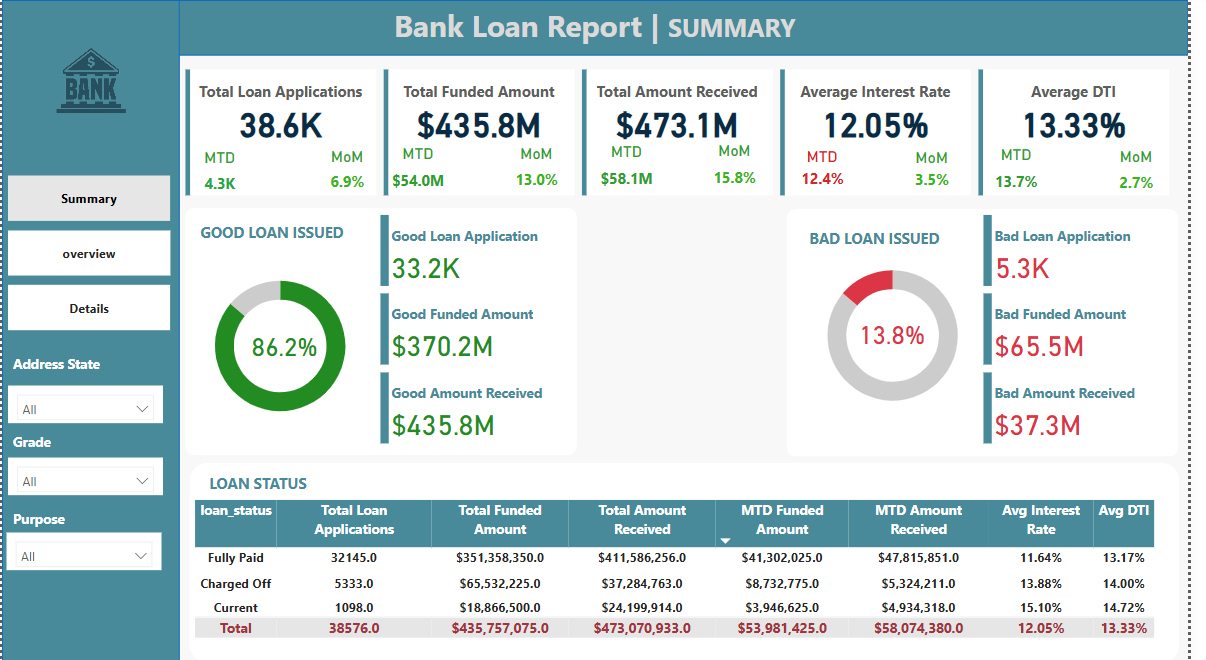

The dashboard page shown, as its layout file describes it:
{"tool":"powerbi","page":{"name":"Summary","canvas":[1280,720],"ordinal":0},"visuals":[{"type":"shape","box":[0,0,1280.8,59.9],"z":0},{"type":"card","title":"MoM","fields":{"Values":["MoM Measure.MoM Amount Received"]},"box":[750.4,153,81.7,62.9],"z":0,"group":"g3"},{"type":"card","title":"MoM","fields":{"Values":["MoM Measure.MoM Funded Amount"]},"box":[536.6,155.1,81.7,60.8],"z":0,"group":"g2"},{"type":"card","title":"MTD","fields":{"Values":["MTD Measure.MTD Average DTI"]},"box":[1054.3,157.2,81,61.5],"z":0,"group":"g5"},{"type":"card","title":"MTD","fields":{"Values":["MTD Measure.MTD Average Interest Rate"]},"box":[846.8,159.5,77.1,52.1],"z":0,"group":"g4"},{"type":"card","title":"MTD","fields":{"Values":["MTD Measure.MTD Loan Applications"]},"box":[194.9,160.8,81.1,60.1],"z":0,"group":"g1"},{"type":"shape","box":[0,0,191.9,720.9],"z":1000},{"type":"card","title":"MTD","fields":{"Values":["MTD Measure.MTD Funded Amount"]},"box":[408.7,155.1,81.7,62.9],"z":1000,"group":"g2"},{"type":"card","title":"MTD","fields":{"Values":["MTD Measure.MTD Amount Received"]},"box":[633,155.1,81.7,62.9],"z":1000,"group":"g3"},{"type":"card","title":"MoM","fields":{"Values":["MoM Measure.MoM Avg DTI"]},"box":[1183.8,158.8,81,61.5],"z":1000,"group":"g5"},{"type":"card","title":"MoM","fields":{"Values":["MoM Measure.MoM Loan Applications"]},"box":[332.3,159.3,81.2,59.5],"z":1000,"group":"g1"},{"type":"card","title":"MoM","fields":{"Values":["MoM Measure.MoM Avg Interest Rate"]},"box":[965.6,160.9,77.1,52.1],"z":1000,"group":"g4"},{"type":"textbox","box":[377.7,0,524.6,59.9],"z":1250},{"type":"cardVisual","fields":{"Data":["Measure.Total Loan Applications","Measure.Total Funded Amount","Measure.Total Amount Received","Measure.Average Interest Rate","Measure.Average DTI"]},"box":[192.8,69.2,1073.2,146.7],"z":1500},{"type":"group","id":"g1","title":"total apps G","box":[194.9,159.3,218,60.8],"z":1937},{"type":"group","id":"g2","title":"funded amount G","box":[408.7,155.1,209.6,62.9],"z":1968},{"type":"group","id":"g3","title":"amount received G","box":[633,153,199.1,65],"z":1984},{"type":"group","id":"g4","title":"AVG interest rate G","box":[846.8,159.5,195.9,53.4],"z":2492},{"type":"group","id":"g5","title":"avg DTI G","box":[1054.3,157.2,209.6,62.9],"z":2746},{"type":"shape","box":[197,218,423.4,272.5],"z":3000},{"type":"donutChart","fields":{"Category":["bank_loan_data.Good Vs Bad Loans"],"Y":["Measure.Total Loan Applications"]},"box":[197,280.9,205.4,186.6],"z":4000},{"type":"card","title":"good loan % card","fields":{"Values":["Good vs Bad Measure.Good Loan %"]},"box":[259.9,335.4,88,75.5],"z":5000},{"type":"cardVisual","title":"good loan Card","fields":{"Data":["Good vs Bad Measure.Good Loan Application","Good vs Bad Measure.Good Funded Amount","Good vs Bad Measure.Good Amount Received"]},"box":[402.5,226.4,211.7,257.8],"z":6000},{"type":"shape","box":[846.8,220.1,423.4,272.5],"z":7000},{"type":"donutChart","fields":{"Category":["bank_loan_data.Good Vs Bad Loans"],"Y":["Measure.Total Loan Applications"]},"box":[857.3,268.3,209.6,186.6],"z":8000},{"type":"card","fields":{"Values":["Good vs Bad Measure.Bad Loan %"]},"box":[916,322.8,88,75.5],"z":9000},{"type":"cardVisual","fields":{"Data":["Good vs Bad Measure.Bad Loan Application","Good vs Bad Measure.Bad Funded Amount","Good vs Bad Measure.Bad Amount Received"]},"box":[1054.3,226.4,211.7,259.9],"z":10000},{"type":"shape","box":[202.4,493.9,1068.7,221.8],"z":11000},{"type":"tableEx","fields":{"Values":["bank_loan_data.loan_status","Measure.Total Loan Applications","Measure.Total Funded Amount","Measure.Total Amount Received","MTD Measure.MTD Funded Amount","MTD Measure.MTD Amount Received","Measure.Average Interest Rate","Measure.Average DTI"]},"box":[203,534.6,1064,167.5],"z":12000},{"type":"image","box":[15.9,31.9,159.4,108.7],"z":13000},{"type":"slicer","fields":{"Values":["bank_loan_data.address_state"]},"box":[7,416.3,167.4,40.7],"z":14000},{"type":"textbox","box":[7,376.7,127.9,39.5],"z":15000},{"type":"slicer","fields":{"Values":["bank_loan_data.grade"]},"box":[7,494.2,167.4,40.7],"z":16000},{"type":"textbox","box":[7,461.6,74.4,32.6],"z":17000},{"type":"slicer","fields":{"Values":["bank_loan_data.purpose"]},"box":[4.7,574.4,167.4,40.7],"z":18000},{"type":"textbox","box":[5.8,544.2,176.7,33.7],"z":19000},{"type":"textbox","box":[209.6,234.8,199.1,39.8],"z":20000},{"type":"textbox","box":[865.7,241.1,201.2,39.8],"z":21000},{"type":"textbox","box":[218.6,504.7,201.2,39.5],"z":22000},{"type":"pageNavigator","box":[7.2,189.9,175.4,169.6],"z":23000}]}

Visuals, with their boxes in screenshot pixels (x1, y1, x2, y2), scaled from the page's 1280x720 canvas onto the 1206x660 screenshot:
shape: {"left": 0, "top": 0, "right": 1205, "bottom": 55}
"MoM" card: {"left": 707, "top": 140, "right": 784, "bottom": 198}
"MoM" card: {"left": 506, "top": 142, "right": 583, "bottom": 198}
"MTD" card: {"left": 993, "top": 144, "right": 1070, "bottom": 200}
"MTD" card: {"left": 798, "top": 146, "right": 870, "bottom": 194}
"MTD" card: {"left": 184, "top": 147, "right": 260, "bottom": 202}
shape: {"left": 0, "top": 0, "right": 181, "bottom": 659}
"MTD" card: {"left": 385, "top": 142, "right": 462, "bottom": 200}
"MTD" card: {"left": 596, "top": 142, "right": 673, "bottom": 200}
"MoM" card: {"left": 1115, "top": 146, "right": 1192, "bottom": 202}
"MoM" card: {"left": 313, "top": 146, "right": 390, "bottom": 201}
"MoM" card: {"left": 910, "top": 147, "right": 982, "bottom": 195}
textbox: {"left": 356, "top": 0, "right": 850, "bottom": 55}
cardVisual - Measure.Total Loan Applications x Measure.Total Funded Amount: {"left": 182, "top": 63, "right": 1193, "bottom": 198}
"total apps G" group: {"left": 184, "top": 146, "right": 389, "bottom": 202}
"funded amount G" group: {"left": 385, "top": 142, "right": 583, "bottom": 200}
"amount received G" group: {"left": 596, "top": 140, "right": 784, "bottom": 200}
"AVG interest rate G" group: {"left": 798, "top": 146, "right": 982, "bottom": 195}
"avg DTI G" group: {"left": 993, "top": 144, "right": 1191, "bottom": 202}
shape: {"left": 186, "top": 200, "right": 585, "bottom": 450}
donutChart - bank_loan_data.Good Vs Bad Loans x Measure.Total Loan Applications: {"left": 186, "top": 257, "right": 379, "bottom": 429}
"good loan % card" card: {"left": 245, "top": 307, "right": 328, "bottom": 377}
"good loan Card" cardVisual: {"left": 379, "top": 208, "right": 579, "bottom": 444}
shape: {"left": 798, "top": 202, "right": 1197, "bottom": 452}
donutChart - bank_loan_data.Good Vs Bad Loans x Measure.Total Loan Applications: {"left": 808, "top": 246, "right": 1005, "bottom": 417}
card - Good vs Bad Measure.Bad Loan %: {"left": 863, "top": 296, "right": 946, "bottom": 365}
cardVisual - Good vs Bad Measure.Bad Loan Application x Good vs Bad Measure.Bad Funded Amount: {"left": 993, "top": 208, "right": 1193, "bottom": 446}
shape: {"left": 191, "top": 453, "right": 1198, "bottom": 656}
tableEx - bank_loan_data.loan_status x Measure.Total Loan Applications: {"left": 191, "top": 490, "right": 1194, "bottom": 644}
image: {"left": 15, "top": 29, "right": 165, "bottom": 129}
slicer - bank_loan_data.address_state: {"left": 7, "top": 382, "right": 164, "bottom": 419}
textbox: {"left": 7, "top": 345, "right": 127, "bottom": 382}
slicer - bank_loan_data.grade: {"left": 7, "top": 453, "right": 164, "bottom": 490}
textbox: {"left": 7, "top": 423, "right": 77, "bottom": 453}
slicer - bank_loan_data.purpose: {"left": 4, "top": 527, "right": 162, "bottom": 564}
textbox: {"left": 5, "top": 499, "right": 172, "bottom": 530}
textbox: {"left": 197, "top": 215, "right": 385, "bottom": 252}
textbox: {"left": 816, "top": 221, "right": 1005, "bottom": 257}
textbox: {"left": 206, "top": 463, "right": 396, "bottom": 499}
pageNavigator: {"left": 7, "top": 174, "right": 172, "bottom": 330}
